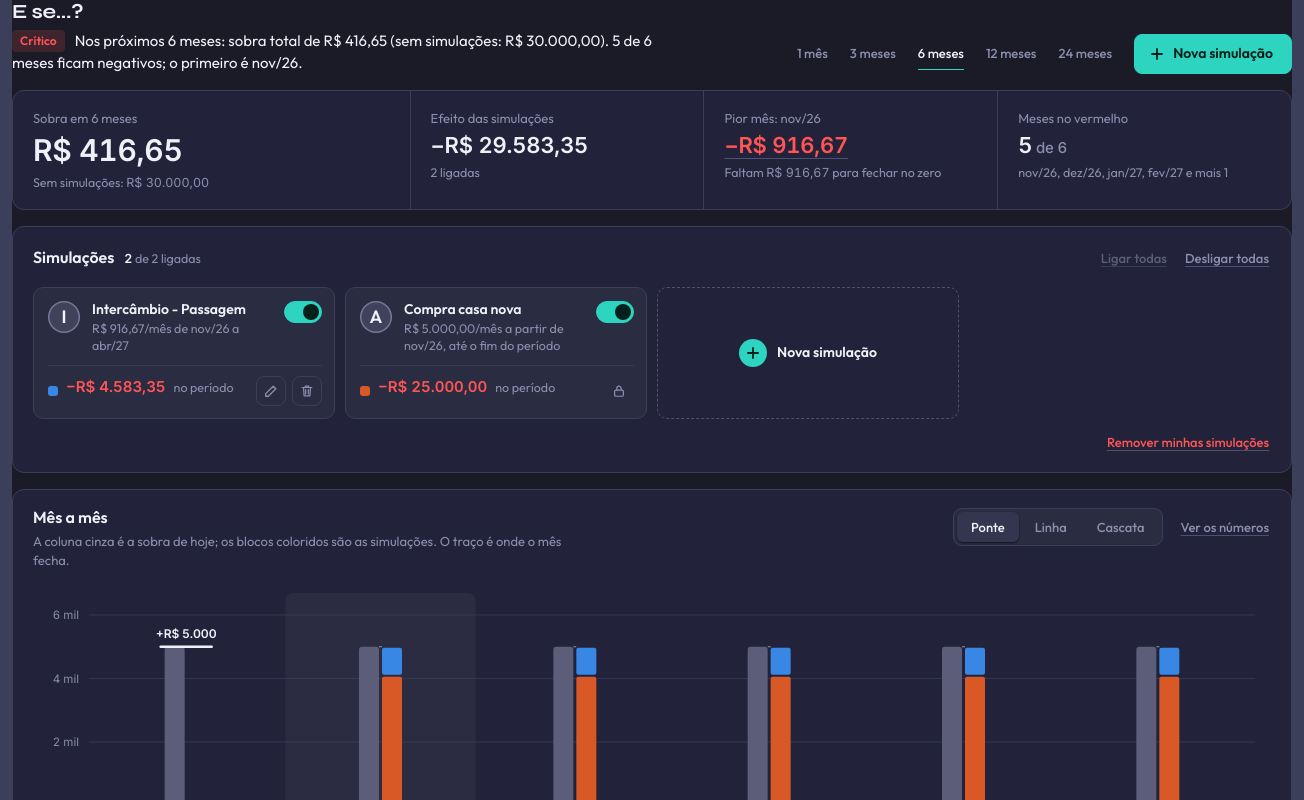
Test: WhatIfView: dados do back-end › "Ver os números" abre a tabela com o cenário atual, cada simulação ligada, o impacto e a sobra final
What coordinates should you click on to do the following:
click the button "Ver os números"
I would click on:
 (1225, 527)
Its box is top-left (1179, 514), bottom-right (1271, 541).
(page scrolled)
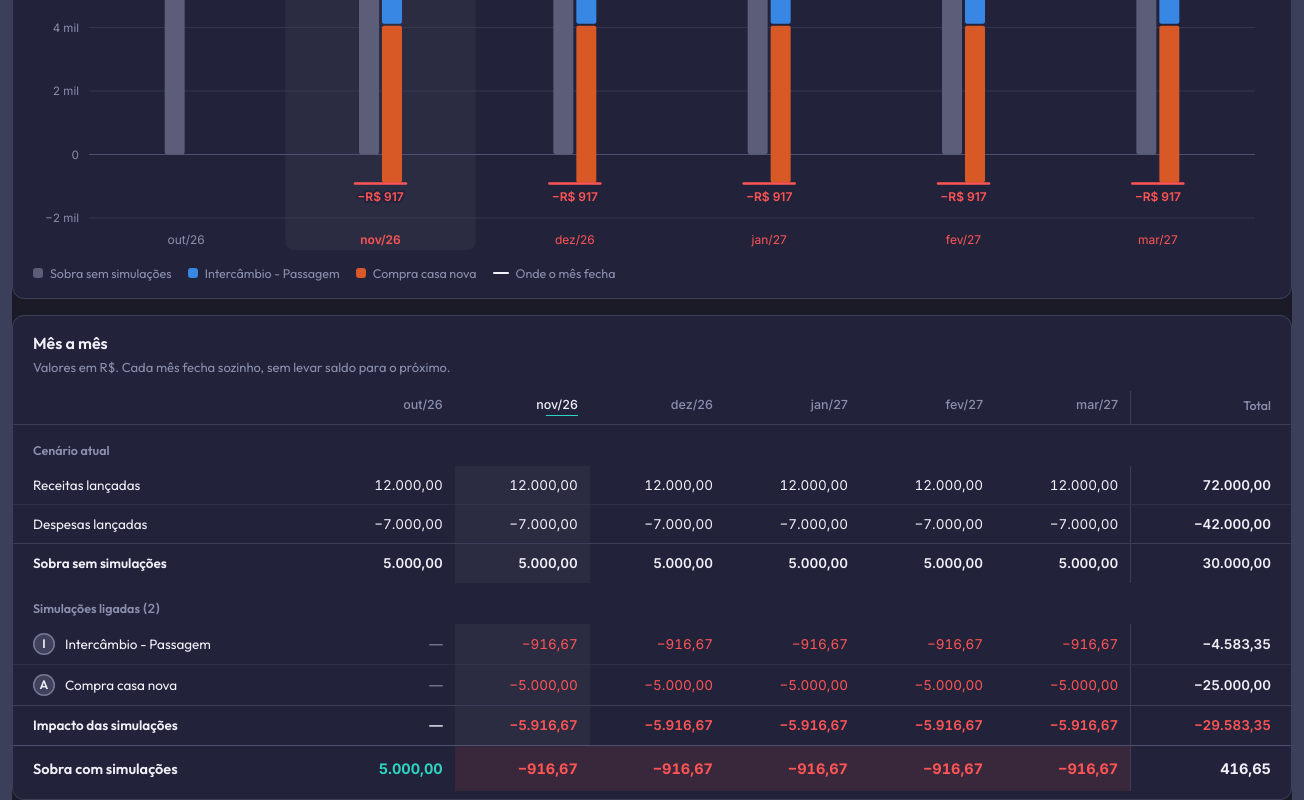
Check: the column heading "Receitas lançadas" is shown, box top-left (13, 466), bottom-right (320, 504)
Check: the column heading "Despesas lançadas" is shown, box top-left (13, 504), bottom-right (320, 543)
Check: the column heading "Sobra sem simulações" is shown, box top-left (13, 543), bottom-right (320, 583)
